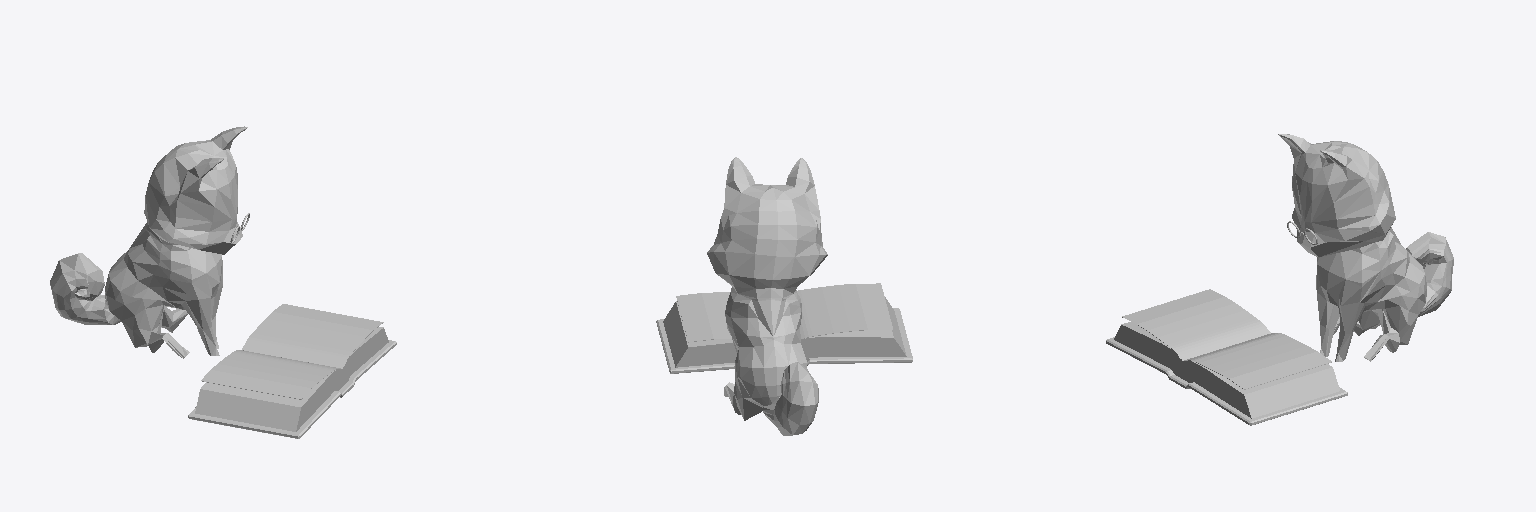
File: book_frame12.obj
3 renders of one model, left to right at view 1: azimuth 30°, elevation 25°; view 2: azimuth 150°, elevation 25°; view 3: azimuth 270°, elevation 25°, orthographic.
Visible parts, largest first — view 1: StidyGlasses_Computer_Sitting:Sitting:newRigging:BodzL1, polySurface1; view 2: StidyGlasses_Computer_Sitting:Sitting:newRigging:BodzL1, polySurface1; view 3: StidyGlasses_Computer_Sitting:Sitting:newRigging:BodzL1, polySurface1.
Boxes of the visible parts, <box> form: StidyGlasses_Computer_Sitting:Sitting:newRigging:BodzL1: <box>50,126,247,358</box>; polySurface1: <box>188,304,396,438</box>; StidyGlasses_Computer_Sitting:Sitting:newRigging:BodzL1: <box>707,157,827,435</box>; polySurface1: <box>656,283,912,373</box>; StidyGlasses_Computer_Sitting:Sitting:newRigging:BodzL1: <box>1278,134,1453,361</box>; polySurface1: <box>1106,289,1347,425</box>.
Bounding box in the file's own units: 9.18 × 7.74 × 11.01.